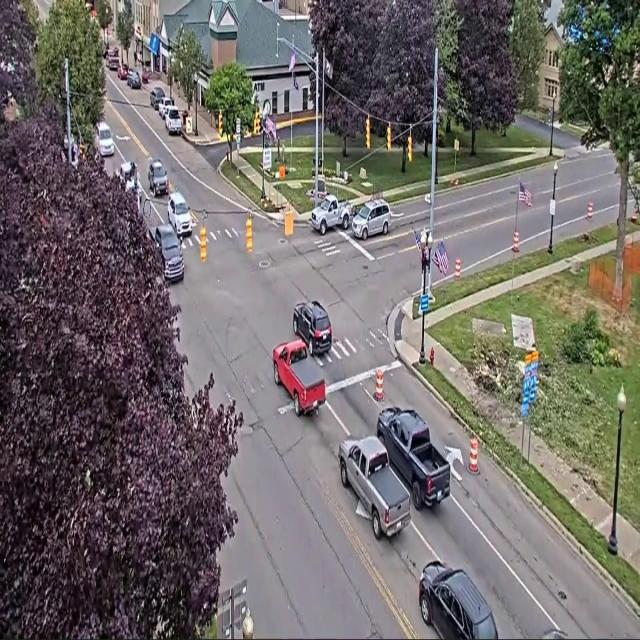car: (419, 561, 498, 639), (293, 301, 331, 355), (352, 200, 390, 240), (168, 192, 192, 236), (148, 159, 168, 196), (96, 122, 114, 157), (119, 162, 136, 191), (164, 106, 181, 135), (158, 96, 173, 119), (150, 87, 164, 110), (542, 629, 568, 639), (127, 71, 141, 88), (103, 44, 118, 59), (108, 56, 119, 71), (118, 64, 128, 79), (142, 68, 150, 84)
traffic signal: (245, 214, 252, 253), (200, 224, 206, 262), (254, 112, 260, 135), (78, 143, 86, 160), (366, 117, 370, 149), (387, 123, 391, 150), (408, 135, 412, 161), (218, 112, 222, 137)
truck: (377, 408, 450, 510), (339, 436, 410, 539), (273, 339, 325, 415), (150, 224, 184, 282), (311, 194, 352, 235)
